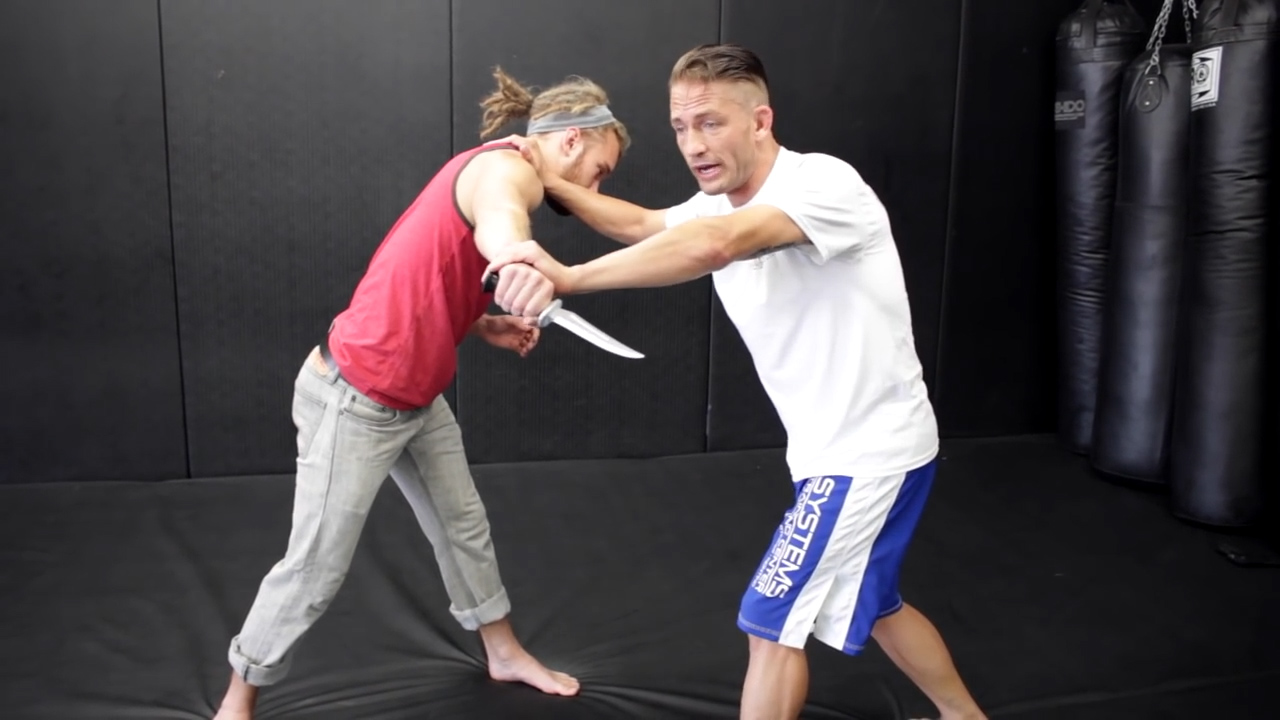knife: (476, 261, 657, 374)
